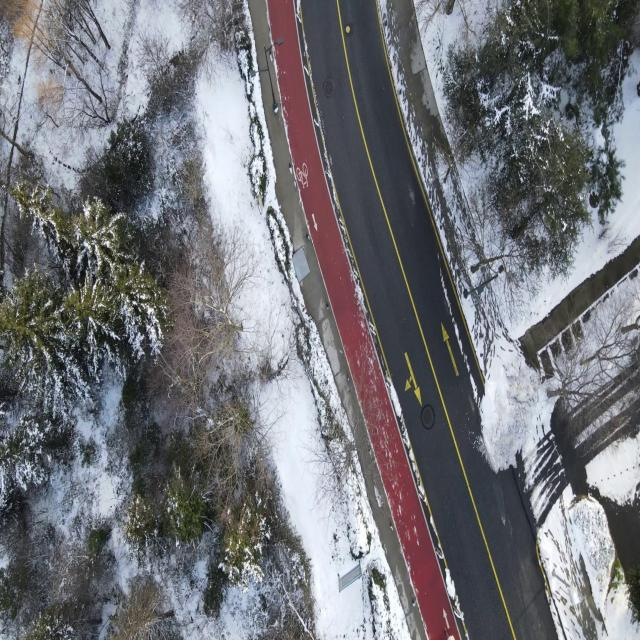p3rson: (444, 627, 455, 640)
